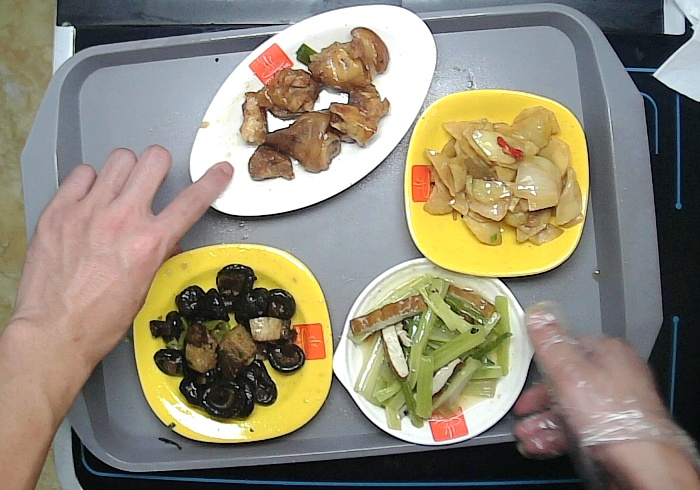SHKJ-Bao_Yu_Pan: (332, 256, 544, 448)
SHKJ-Huang_Se_Cai_Die: (403, 88, 592, 279)
SHKJ-Huang_Se_Si_Fang_Cai_Die: (132, 242, 334, 446)
SHKJ-Yu_Pan: (186, 3, 439, 220)
